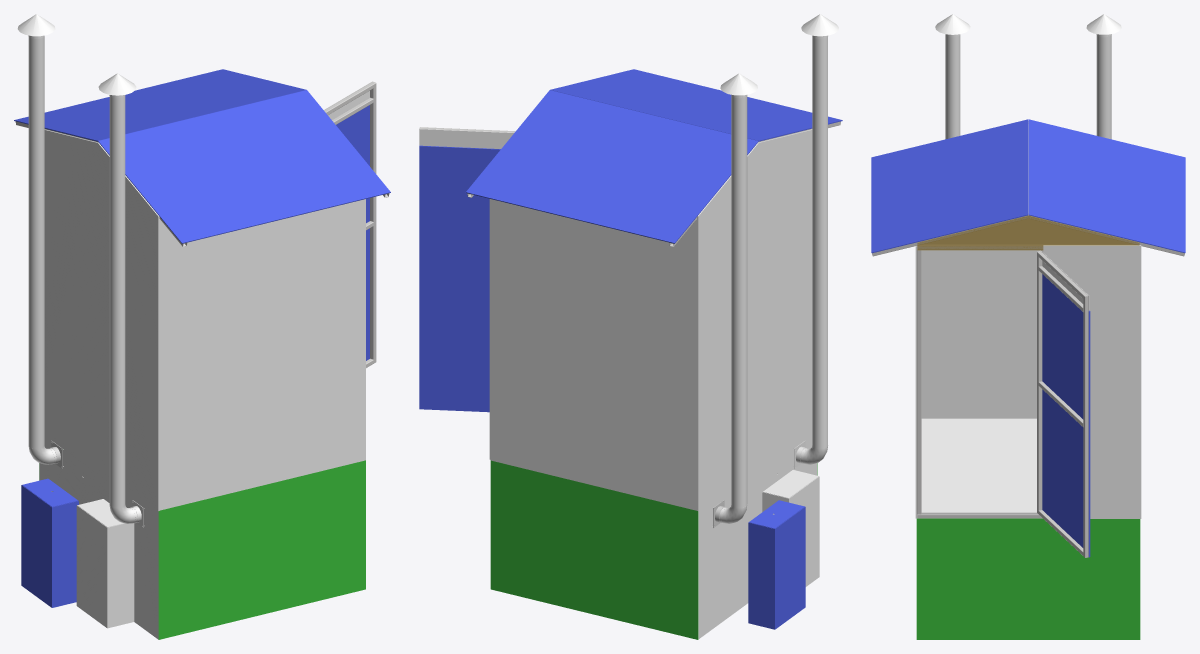
File: BAÑO_SECO.glb
3 renders of one model, left to right at view 1: azimuth 30°, elevation 25°; view 2: azimuth 150°, elevation 25°; view 3: azimuth 270°, elevation 25°, orthographic. The views are drawn at different scales.
Visible parts, largest first — view 1: BAÑO_SECO; view 2: BAÑO_SECO; view 3: BAÑO_SECO.
Boxes of the visible parts, <box> form: BAÑO_SECO: <box>14,14,390,639</box>; BAÑO_SECO: <box>419,14,842,639</box>; BAÑO_SECO: <box>871,14,1185,639</box>.
Bounding box in the file's own units: 2.58 × 3.88 × 2.12.
